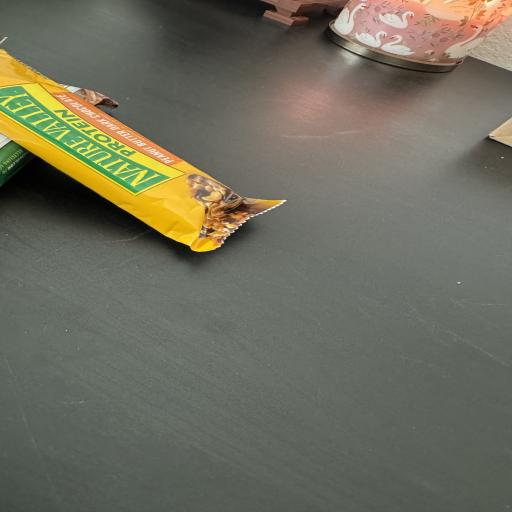granola: (0, 50, 282, 251)
